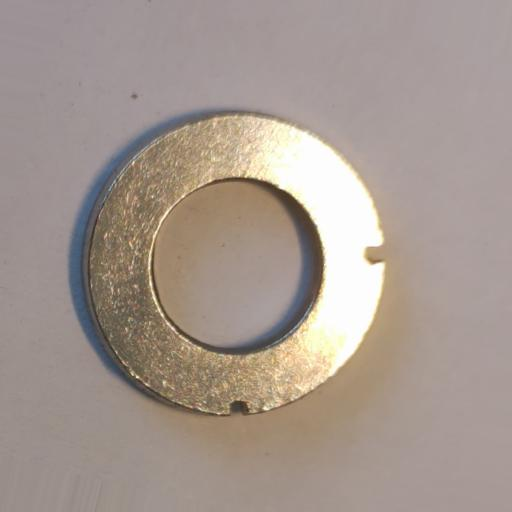burr: (362, 240, 388, 266), (225, 399, 252, 417)
